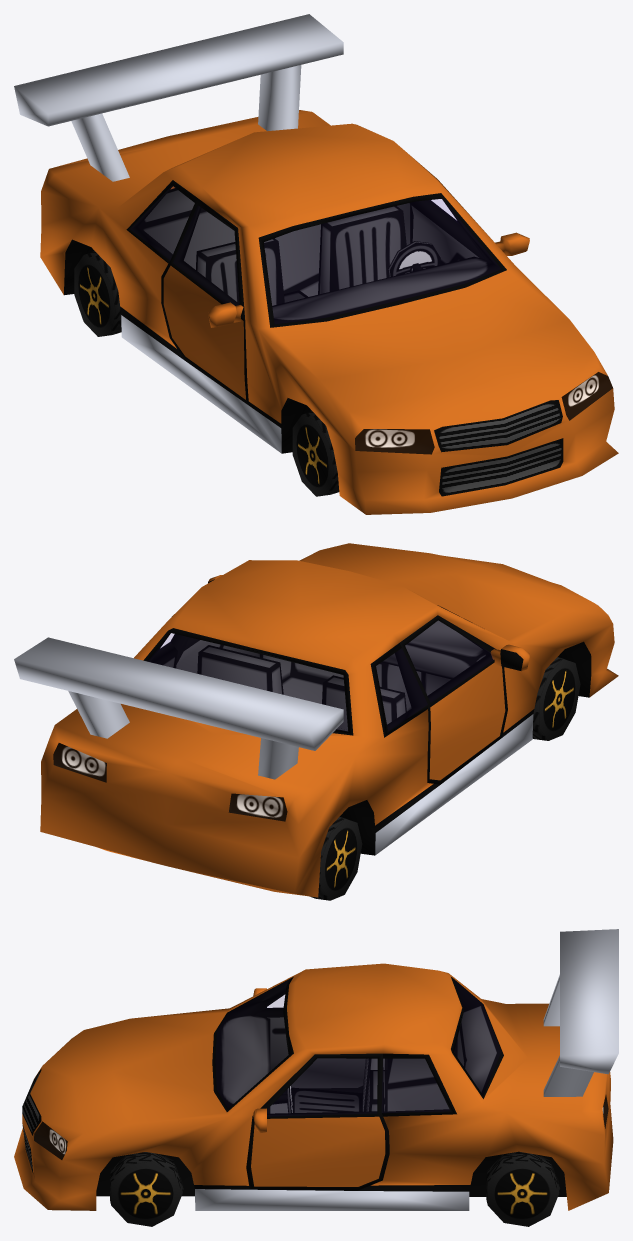
File: sportscar.glb
The picture shows the model from 3 angles, top to bottom: view 1: azimuth 30°, elevation 25°; view 2: azimuth 150°, elevation 25°; view 3: azimuth 270°, elevation 25°; orthographic projection. The views are drawn at different scales.
Visible parts, largest first — view 1: nissan model, nissan model.003, nissan model.002, Roda Nissan Model1.002, Cube.001, nissan model.001, Cube.000, volante Model; view 2: nissan model, nissan model.003, nissan model.002, Roda Nissan Model1.002, Cube.001, Cube.000, nissan model.001; view 3: nissan model, nissan model.001, nissan model.003, Roda Nissan Model1.002, nissan model.002, Cube.000, Cube.001.
Boxes of the visible parts, <box> form: nissan model: <box>40,110,618,514</box>; nissan model.003: <box>14,14,343,181</box>; nissan model.002: <box>161,198,248,405</box>; Roda Nissan Model1.002: <box>74,251,339,496</box>; Cube.001: <box>318,206,406,294</box>; nissan model.001: <box>410,199,529,264</box>; Cube.000: <box>196,238,284,305</box>; volante Model: <box>388,241,440,277</box>; nissan model: <box>40,543,618,897</box>; nissan model.003: <box>14,637,343,779</box>; nissan model.002: <box>394,615,529,784</box>; Roda Nissan Model1.002: <box>309,657,580,900</box>; Cube.001: <box>197,645,283,694</box>; Cube.000: <box>322,675,406,729</box>; nissan model.001: <box>170,575,258,673</box>; nissan model: <box>14,963,613,1210</box>; nissan model.001: <box>246,1053,389,1190</box>; nissan model.003: <box>543,929,618,1096</box>; Roda Nissan Model1.002: <box>110,1151,560,1226</box>; nissan model.002: <box>253,988,365,1088</box>; Cube.000: <box>292,1058,387,1112</box>; Cube.001: <box>366,1070,387,1112</box>.
Size of the model in its own units: 6.06 by 3.89 by 11.51.
11 materials, 6 textured.
